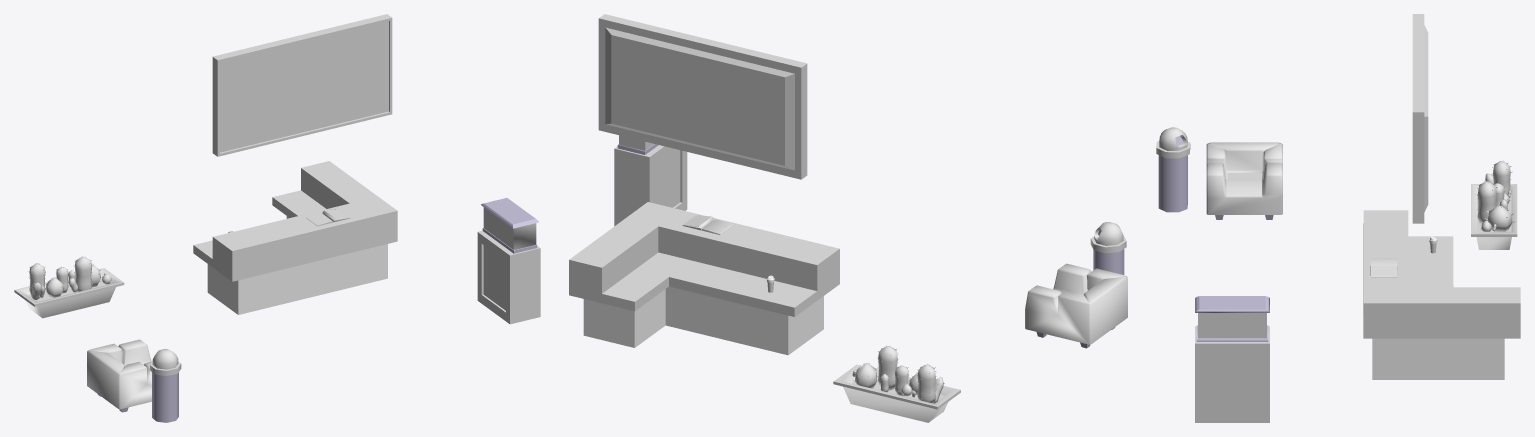
Rendered from ReceptionRoom.fbx.
3 views of the same model, side by side, from view 1: azimuth 30°, elevation 25°; view 2: azimuth 150°, elevation 25°; view 3: azimuth 270°, elevation 25° (orthographic). The views are drawn at different scales.
Visible parts, largest first — view 1: FlatScreen, Desk, Table, Sofa, Fishtank, RectanglePot, Cacti, Trash; view 2: Desk, FlatScreen, Sofa, Table, RectanglePot, Cacti, Trash, Logbook; view 3: Desk, Table, Sofa, FlatScreen, Fishtank, Trash, Cacti, RectanglePot, Logbook.
Boxes of the visible parts, x1,y1,x2,y2 form: FlatScreen: (212,14,392,156); Desk: (193,161,397,314); Table: (477,230,540,324); Sofa: (87,339,151,412); Fishtank: (481,198,538,253); RectanglePot: (14,268,124,318); Cacti: (28,256,111,300); Trash: (150,348,181,422); Desk: (569,202,839,355); FlatScreen: (598,14,807,179); Sofa: (1025,263,1127,348); Table: (614,145,687,226); RectanglePot: (833,364,960,422); Cacti: (852,345,944,403); Trash: (1090,222,1126,274); Logbook: (682,215,733,234); Desk: (1363,210,1520,379); Table: (1195,326,1269,422); Sofa: (1206,142,1282,219); FlatScreen: (1412,14,1428,223); Fishtank: (1195,296,1269,341); Trash: (1156,127,1190,212); Cacti: (1476,160,1515,231); RectanglePot: (1471,184,1517,249); Logbook: (1370,258,1397,277).
Size of the model in its own units: 902 by 510 by 594.
